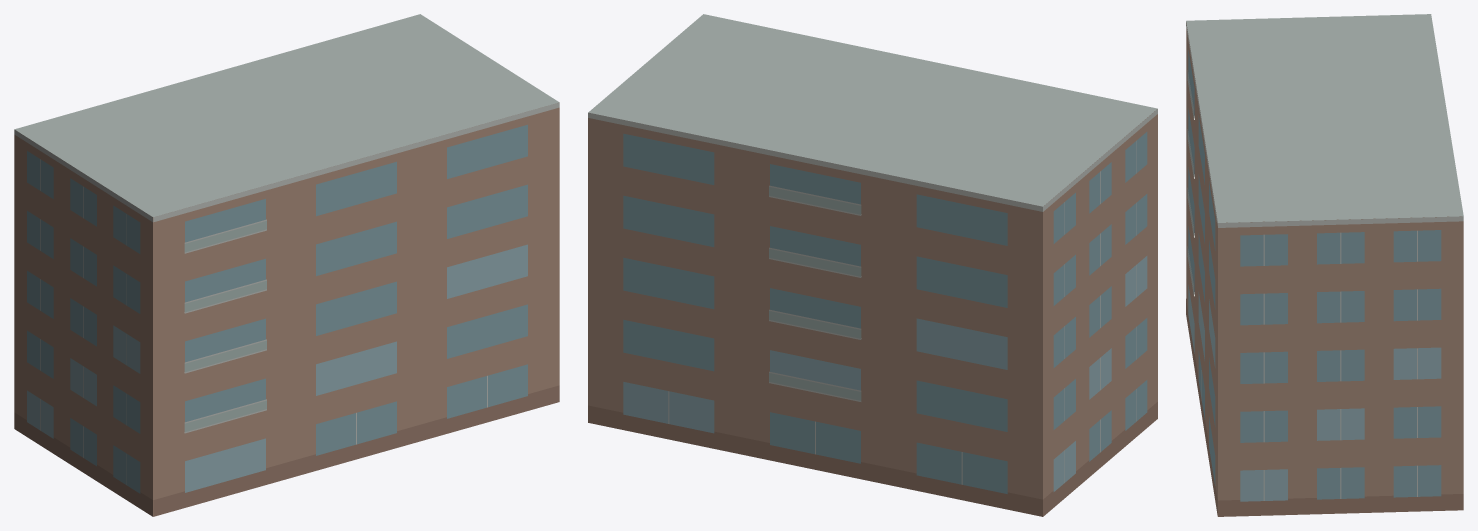
File: survey-upis-32615884.glb
3 views of the same model, side by side, from view 1: azimuth 30°, elevation 25°; view 2: azimuth 150°, elevation 25°; view 3: azimuth 270°, elevation 25° (orthographic). The views are drawn at different scales.
Visible parts, largest first — view 1: survey-upis-32615884.tmp; view 2: survey-upis-32615884.tmp; view 3: survey-upis-32615884.tmp.
Part boxes in pixels (box(x1,y1,x2,y2)): survey-upis-32615884.tmp: box(14, 14, 559, 516); survey-upis-32615884.tmp: box(588, 14, 1157, 516); survey-upis-32615884.tmp: box(1186, 14, 1463, 516).
Size of the model in its own units: 21.82 by 14.3 by 12.25.
